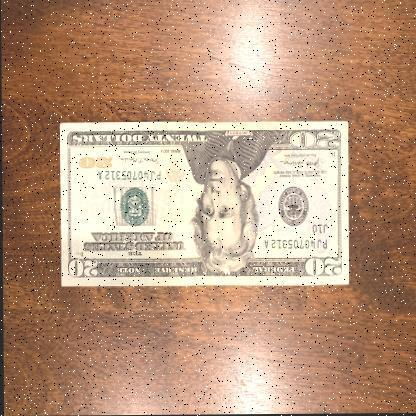twenty-front: (58, 119, 350, 290)
